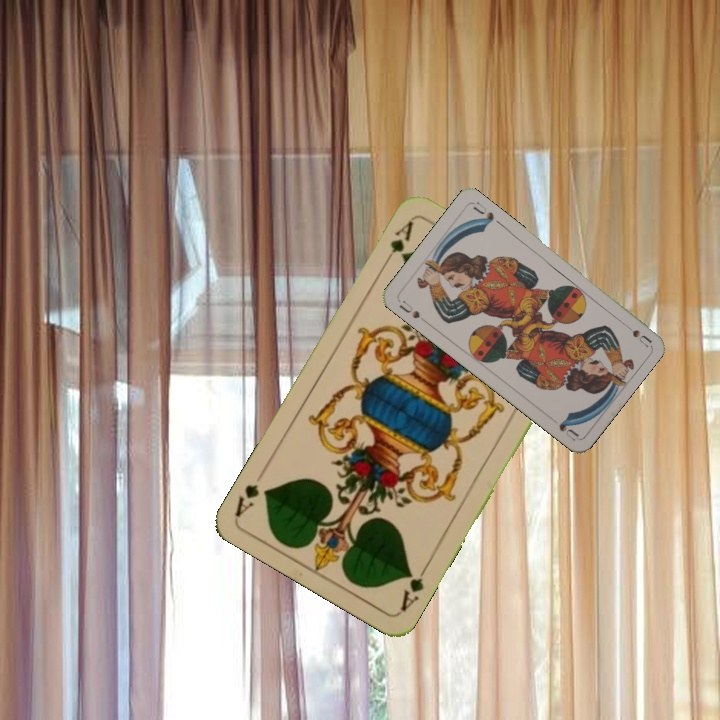GA: (380, 214, 416, 268), (396, 560, 431, 614)
SU: (617, 317, 653, 349), (395, 296, 423, 321)
